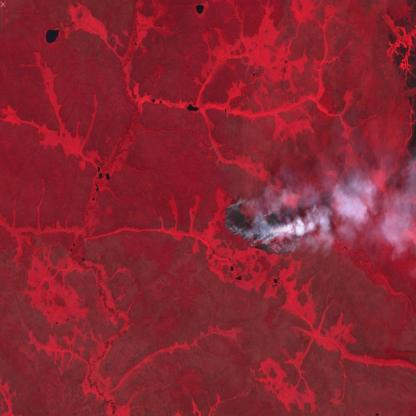fire: (222, 195, 290, 257)
